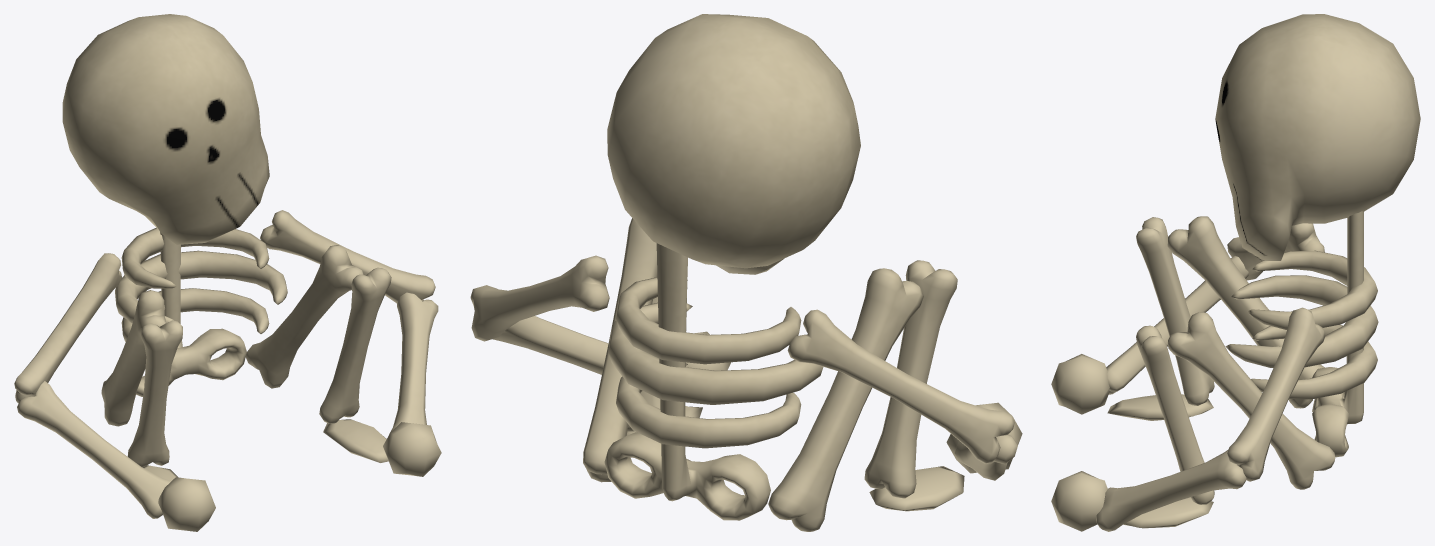
File: skeleton sitting.fbx
3 views of the same model, side by side, from view 1: azimuth 30°, elevation 25°; view 2: azimuth 150°, elevation 25°; view 3: azimuth 270°, elevation 25° (orthographic). The views are drawn at different scales.
Parts seen in each view (by area): view 1: polySurface344; view 2: polySurface344; view 3: polySurface344.
Part boxes in pixels (x1=…): polySurface344: x1=14, y1=14, x2=441, y2=531; polySurface344: x1=470, y1=14, x2=1022, y2=531; polySurface344: x1=1051, y1=14, x2=1420, y2=531.
Size of the model in its own units: 1.06 by 0.9841 by 0.7609.
Materials: 1 (1 with a texture image).
